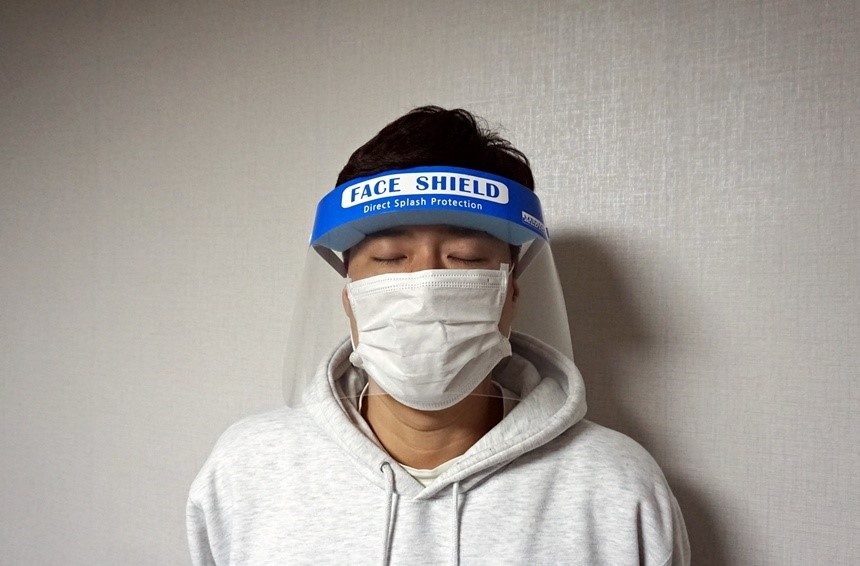face_with_mask: (333, 107, 534, 414)
